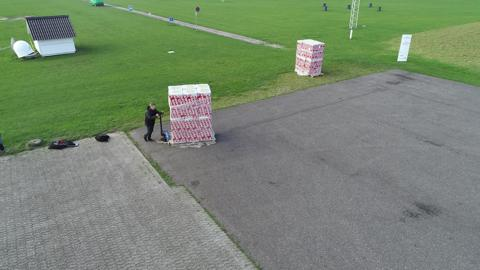RockwoolPallet: (168, 85, 215, 140)
